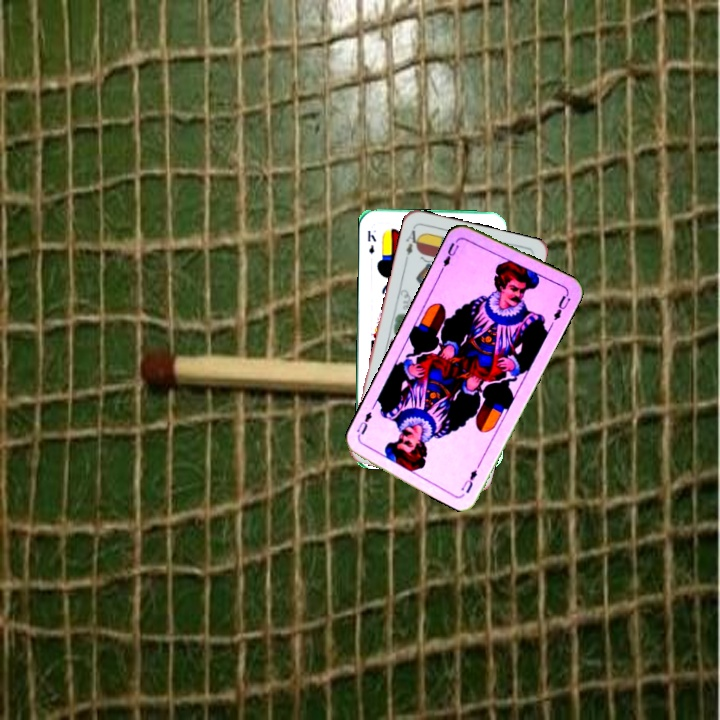EA: (401, 224, 423, 264)
EK: (363, 226, 378, 256)
EU: (437, 235, 462, 273), (457, 465, 480, 496)
